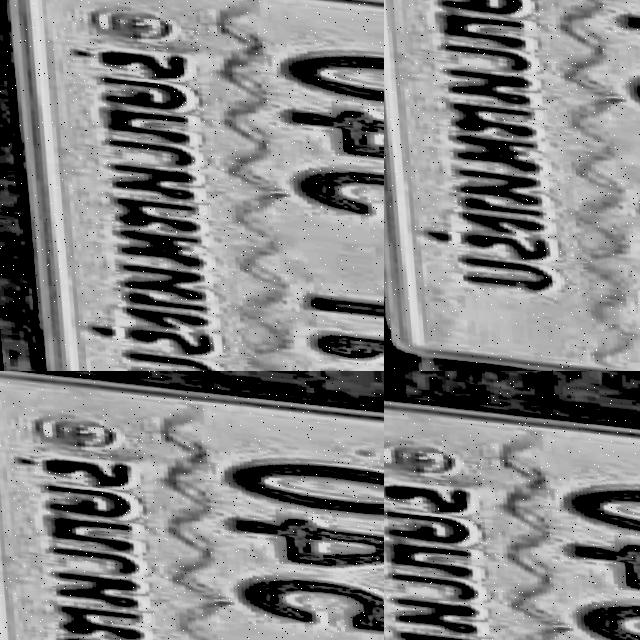license-plate: (0, 373, 384, 640), (384, 382, 640, 640)
